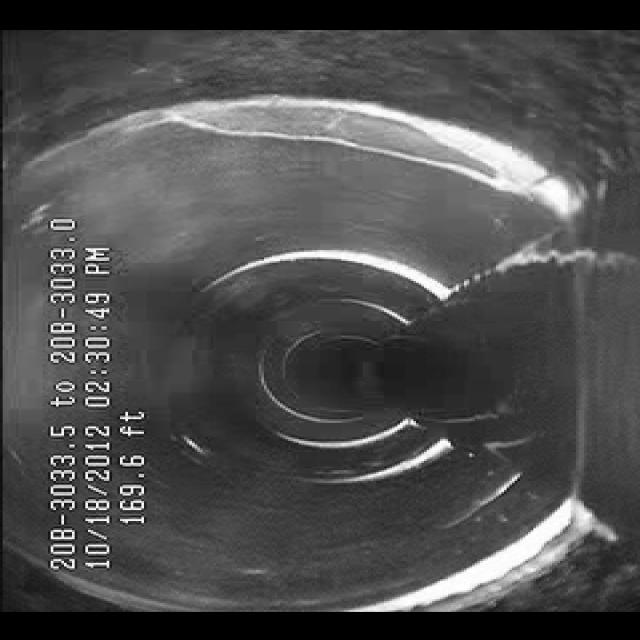Crack: (146, 89, 485, 192)
